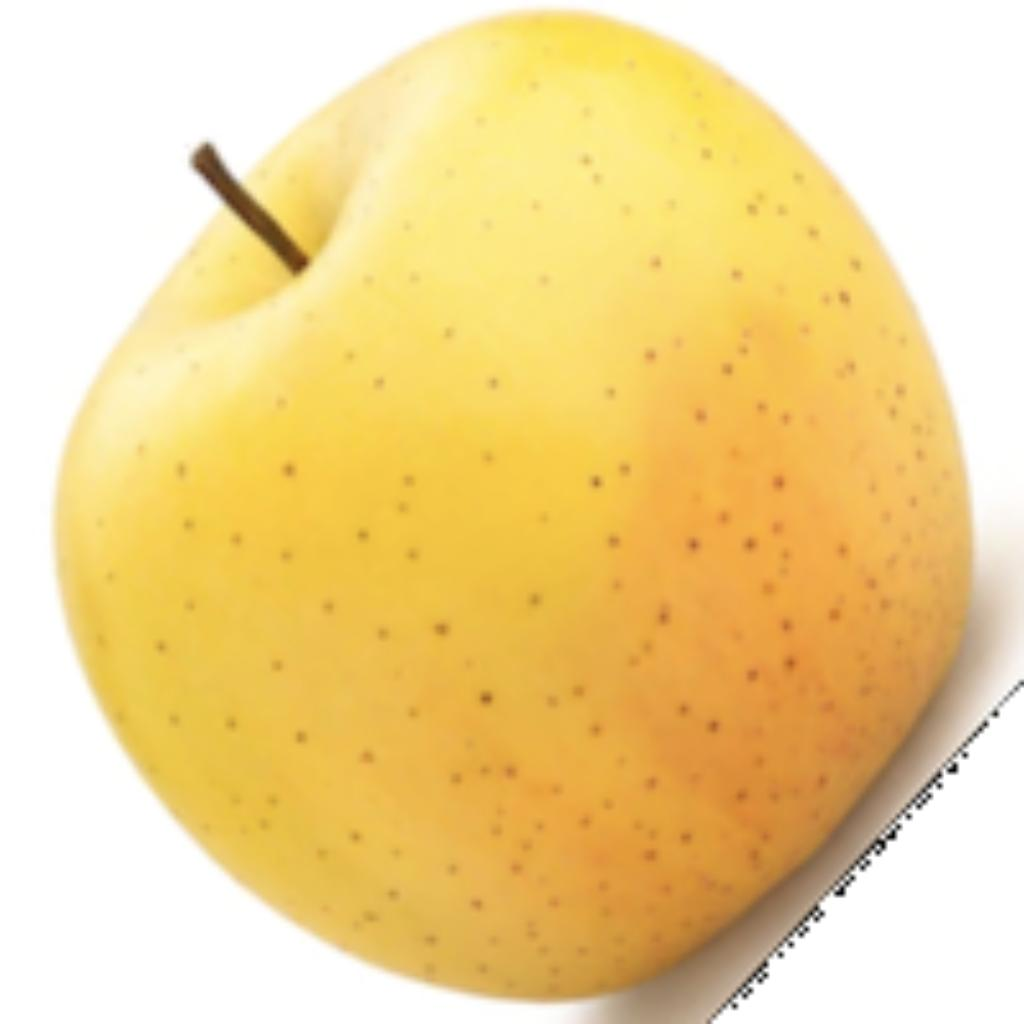apple: (46, 5, 1019, 1019)
